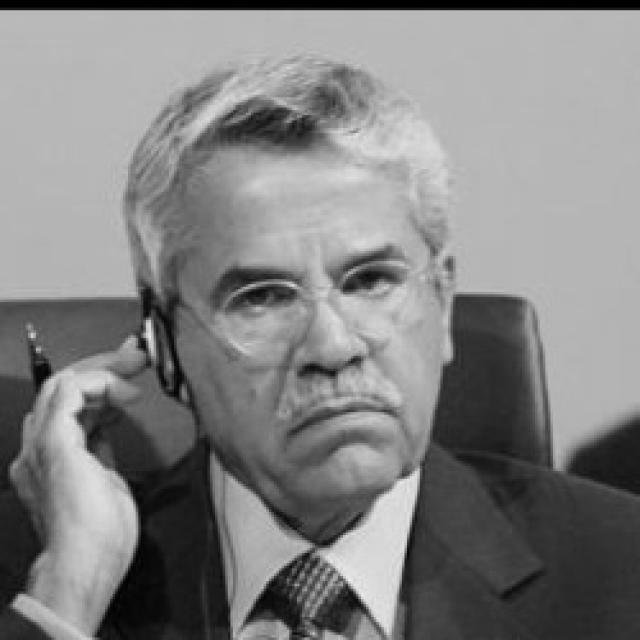real: (118, 90, 484, 505), (203, 254, 435, 339)
